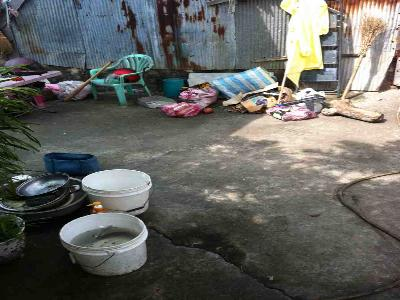bucket: (58, 210, 149, 276), (81, 167, 151, 216), (160, 72, 185, 99)
plastic_bag: (212, 66, 279, 102)
plate: (15, 172, 71, 198)
